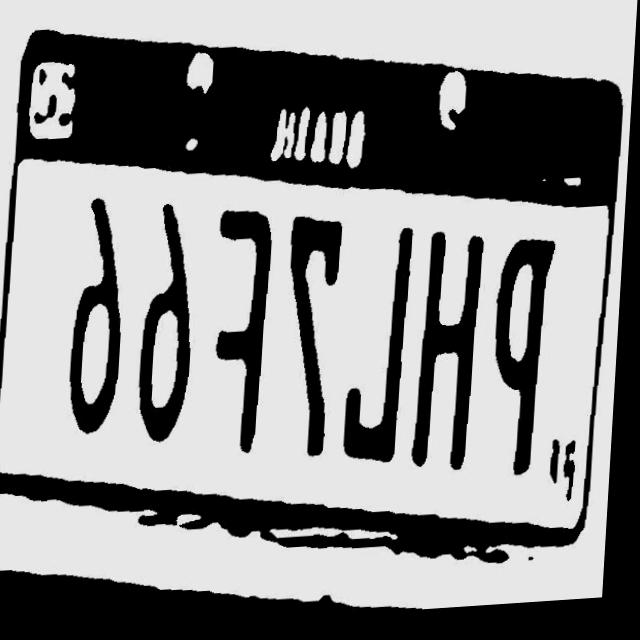6: (136, 203, 203, 451), (73, 197, 134, 438)
7: (283, 217, 349, 464)
f: (208, 207, 279, 462)
h: (414, 233, 492, 479)
l: (345, 233, 419, 471)
p: (488, 240, 565, 490)
